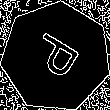P_SE: (25, 28, 87, 85)
